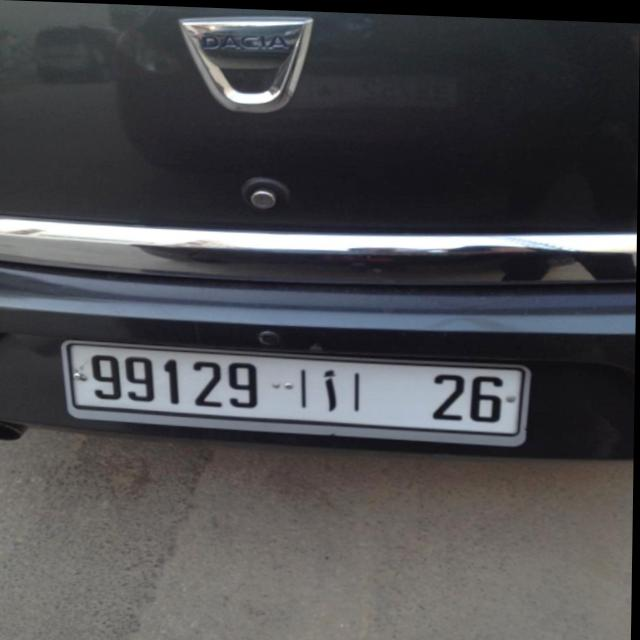License-Plate: (64, 340, 531, 442)
